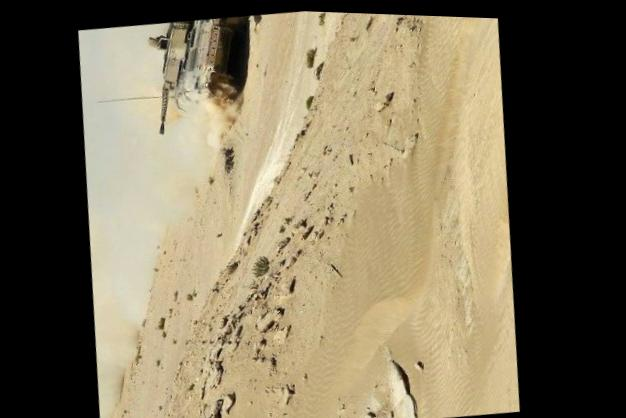tank: (140, 12, 256, 136)
